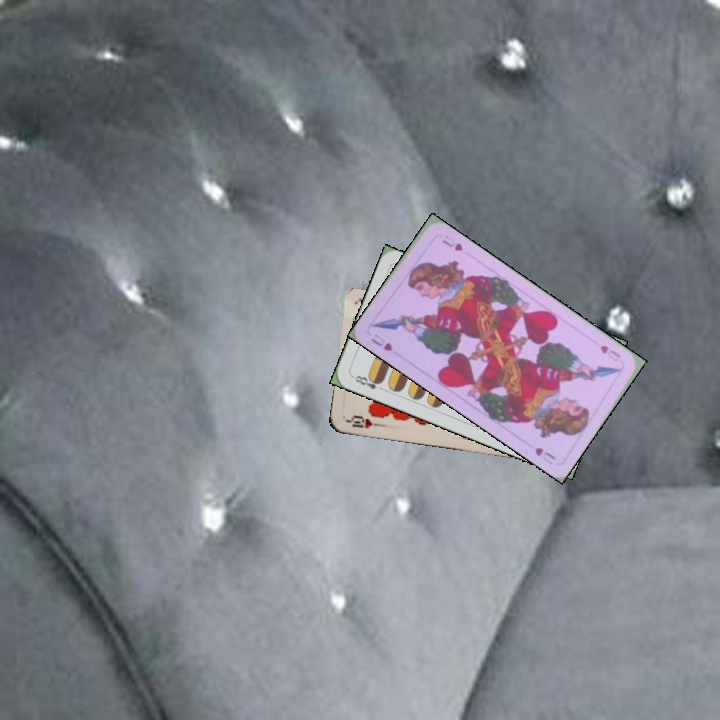E8: (348, 371, 387, 393)
H10: (342, 412, 383, 431)
HU: (367, 330, 395, 354), (596, 341, 623, 362)
